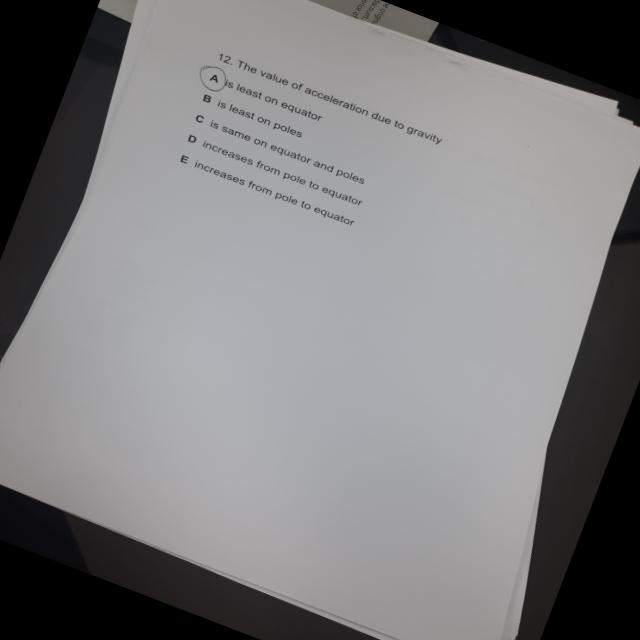A: (192, 61, 235, 98)
